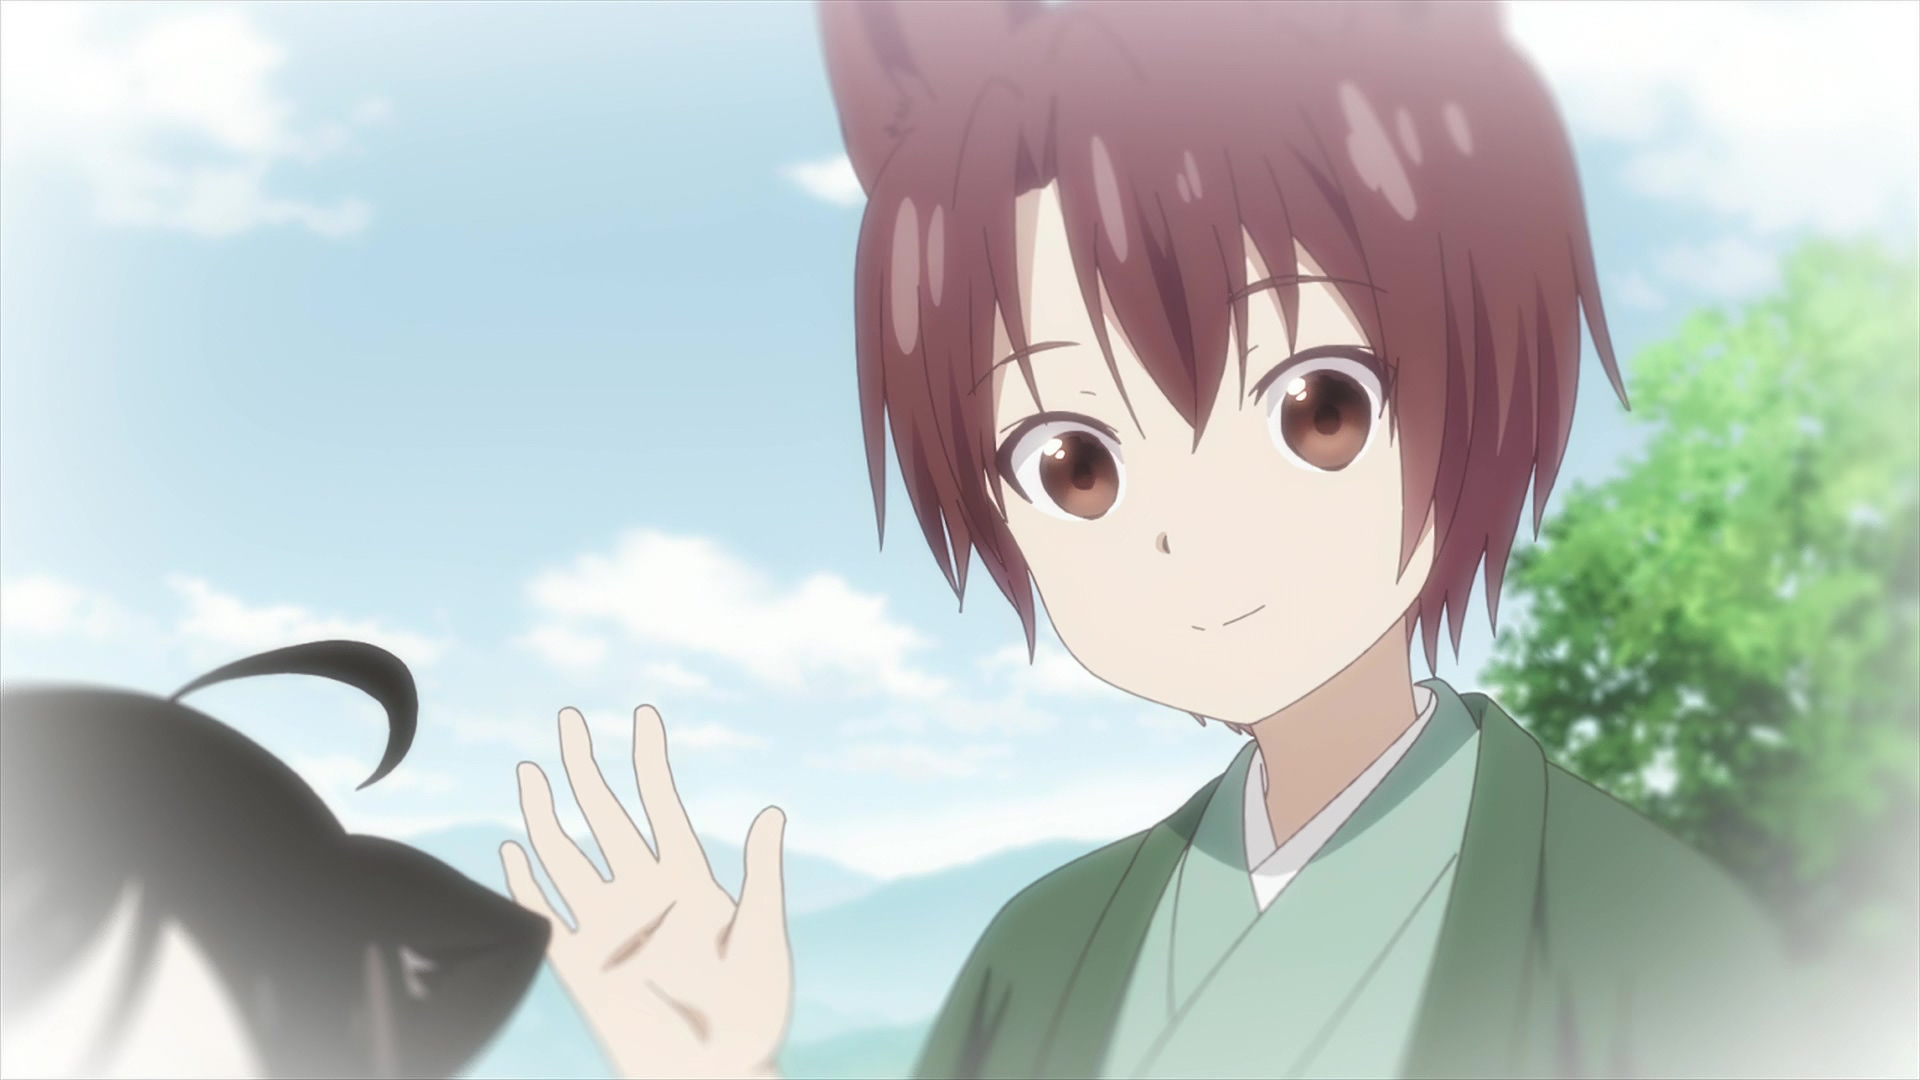其他: (1, 640, 554, 1080)
枣: (498, 1, 1824, 1080)
